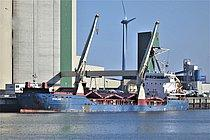Ship: (17, 81, 194, 116)
